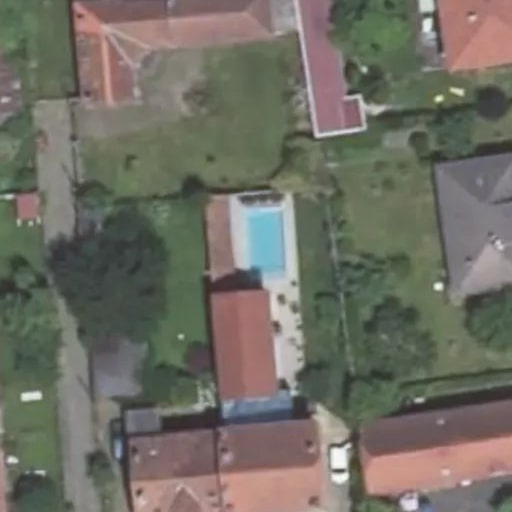pool: (238, 194, 289, 283)
